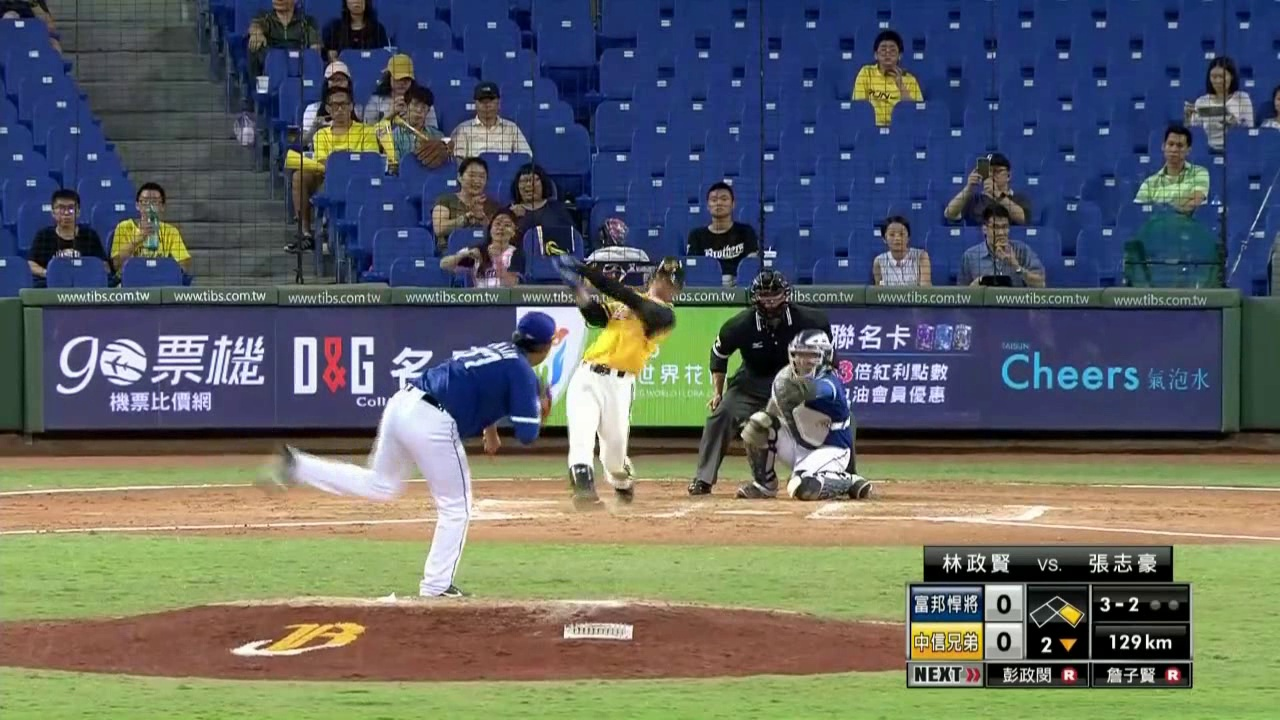base: (1029, 591, 1086, 628)
out: (1147, 588, 1187, 619)
score1: (987, 588, 1019, 620)
score2: (987, 626, 1021, 659)
session: (1029, 629, 1086, 660)
speed: (1098, 628, 1184, 657)
strikeball: (1093, 589, 1145, 622)
